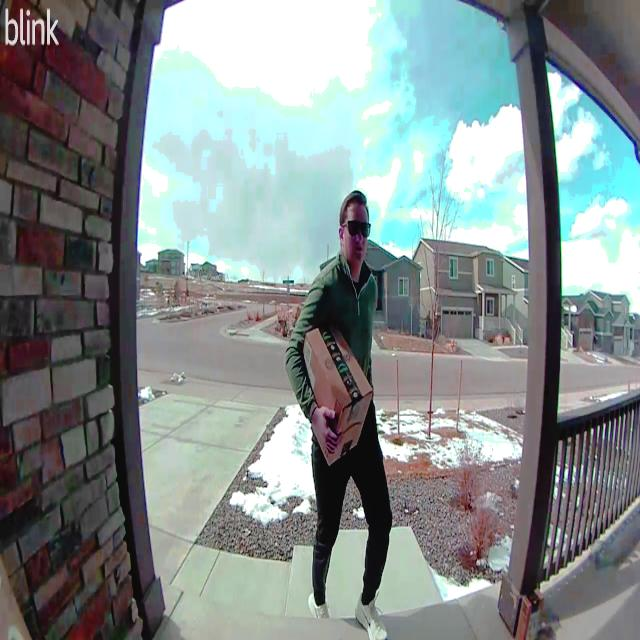Box: (305, 320, 373, 468), (516, 585, 548, 640)
